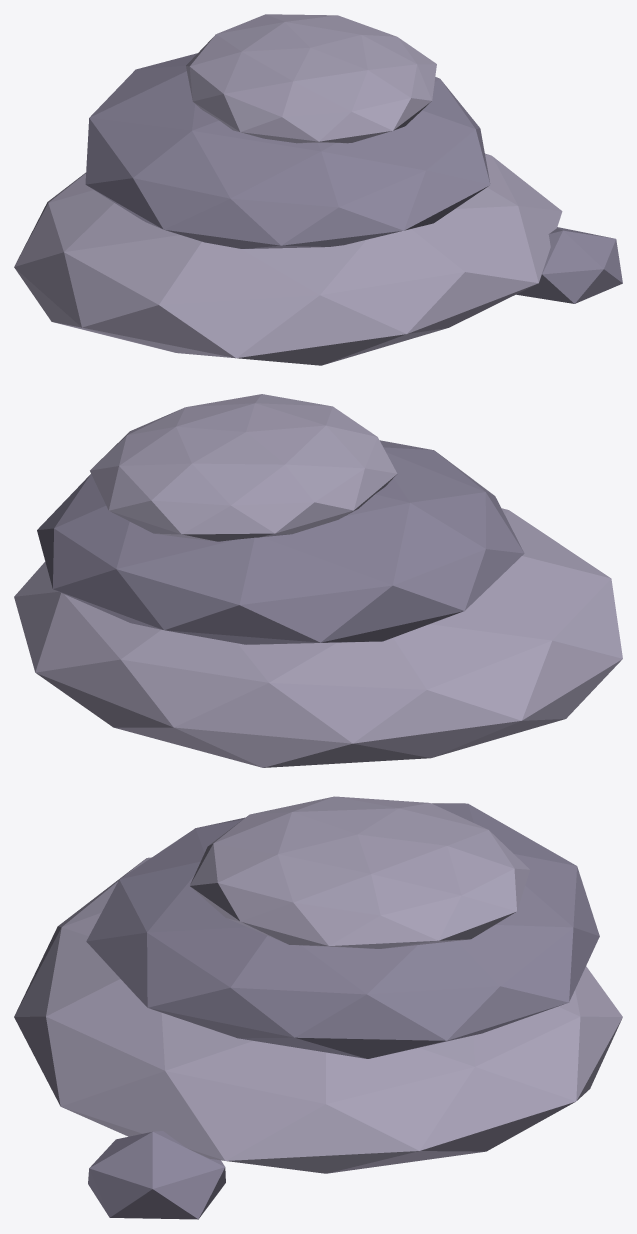
Rendered from rock_stack.glb.
The picture shows the model from 3 angles, top to bottom: view 1: azimuth 30°, elevation 25°; view 2: azimuth 150°, elevation 25°; view 3: azimuth 270°, elevation 25°; orthographic projection. The views are drawn at different scales.
Visible parts, largest first — view 1: RockStack.001; view 2: RockStack.001; view 3: RockStack.001.
Part boxes in pixels (left/top/right/bottom): RockStack.001: left=14, top=14, right=622, bottom=365; RockStack.001: left=14, top=394, right=622, bottom=767; RockStack.001: left=14, top=796, right=622, bottom=1219.
Bounding box in the file's own units: 2.24 × 0.9048 × 1.93.
